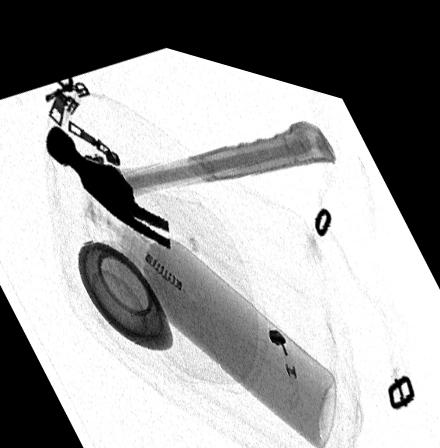Hammer: (43, 102, 336, 240)
